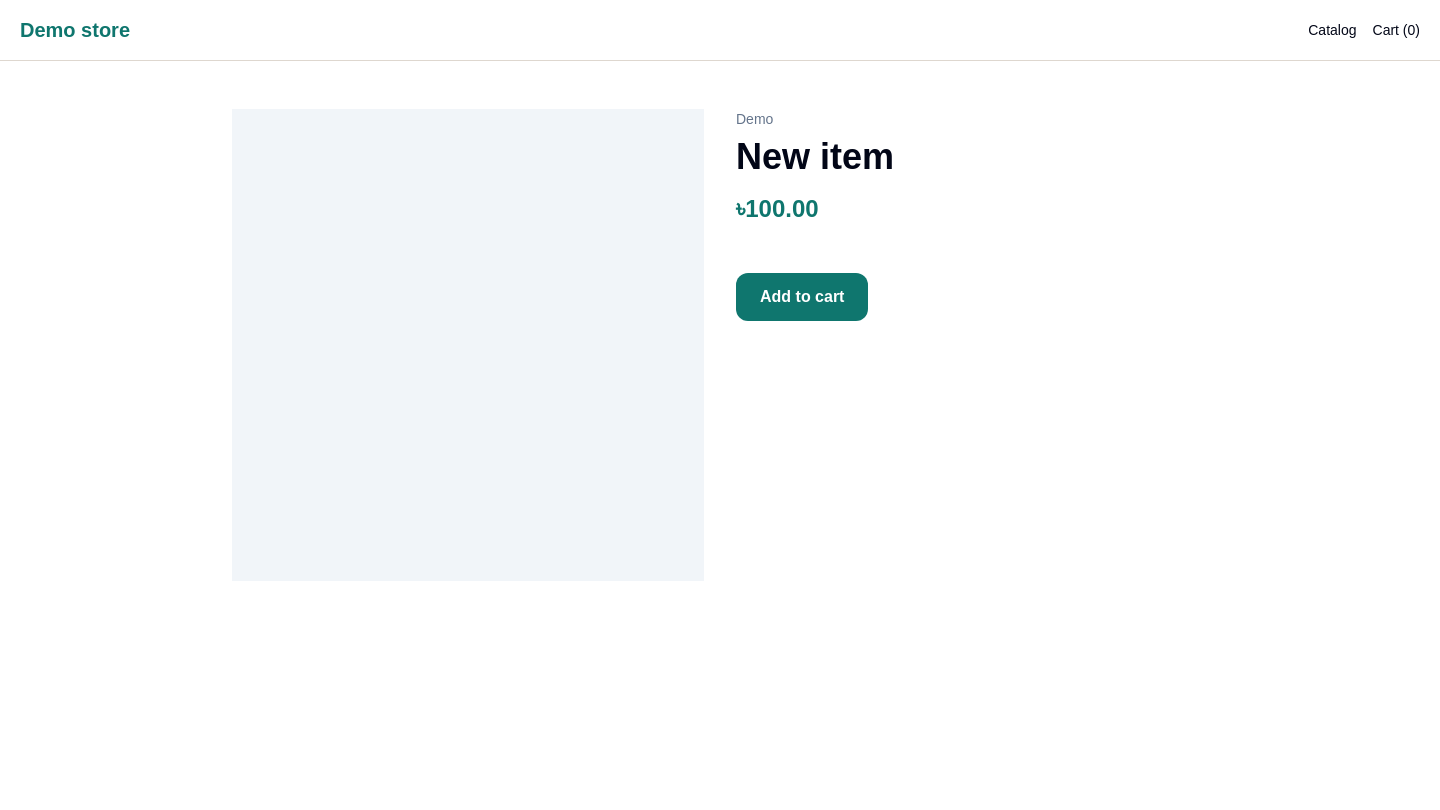
Test: PublicStore cart persistence › does not let delayed cart hydration overwrite a newly added product
The image size is (1440, 810).
Click the button "Add to cart": click(802, 297) [736, 273, 868, 321]
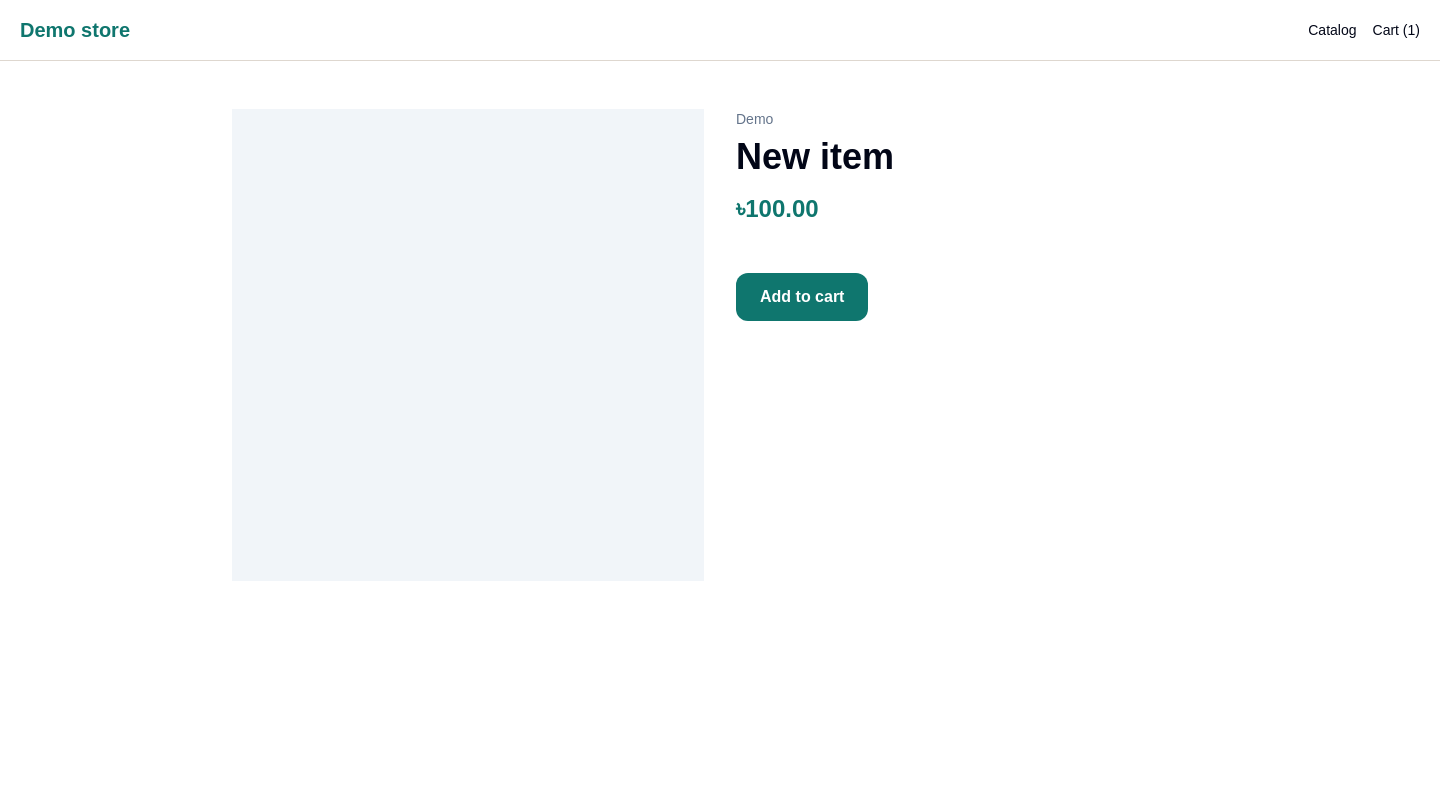
expect the link "Cart (1)" is shown: met, box [1372, 20, 1420, 40]
